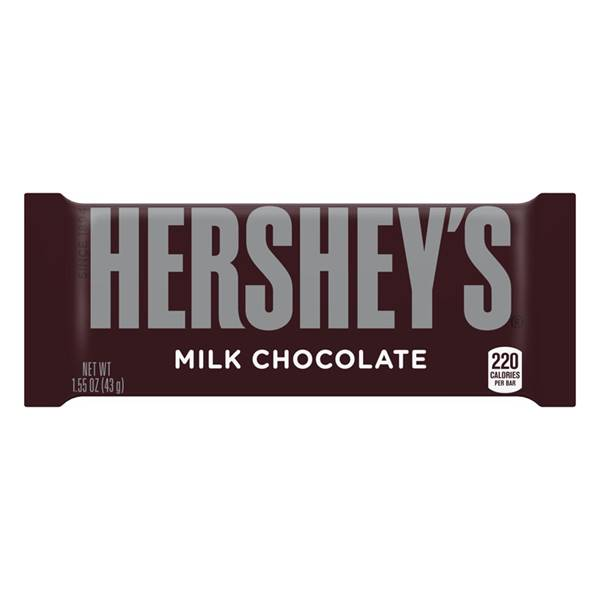hershey: (24, 195, 575, 405)
